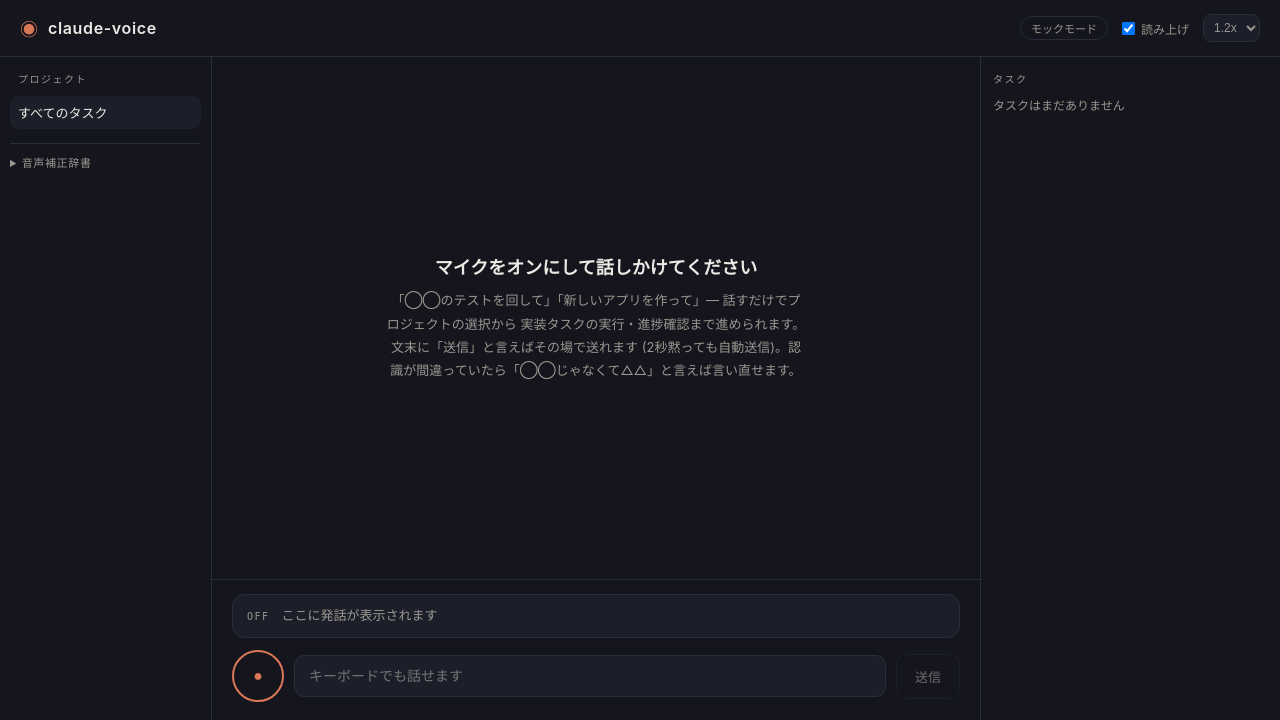
Test case: 編集可能な認識テキスト › 認識結果が編集可能な入力欄に表示され、キーボードで削除・追記できる
Click the button named "マイクを開始". click: click(258, 676)
box: [232,650,284,702]
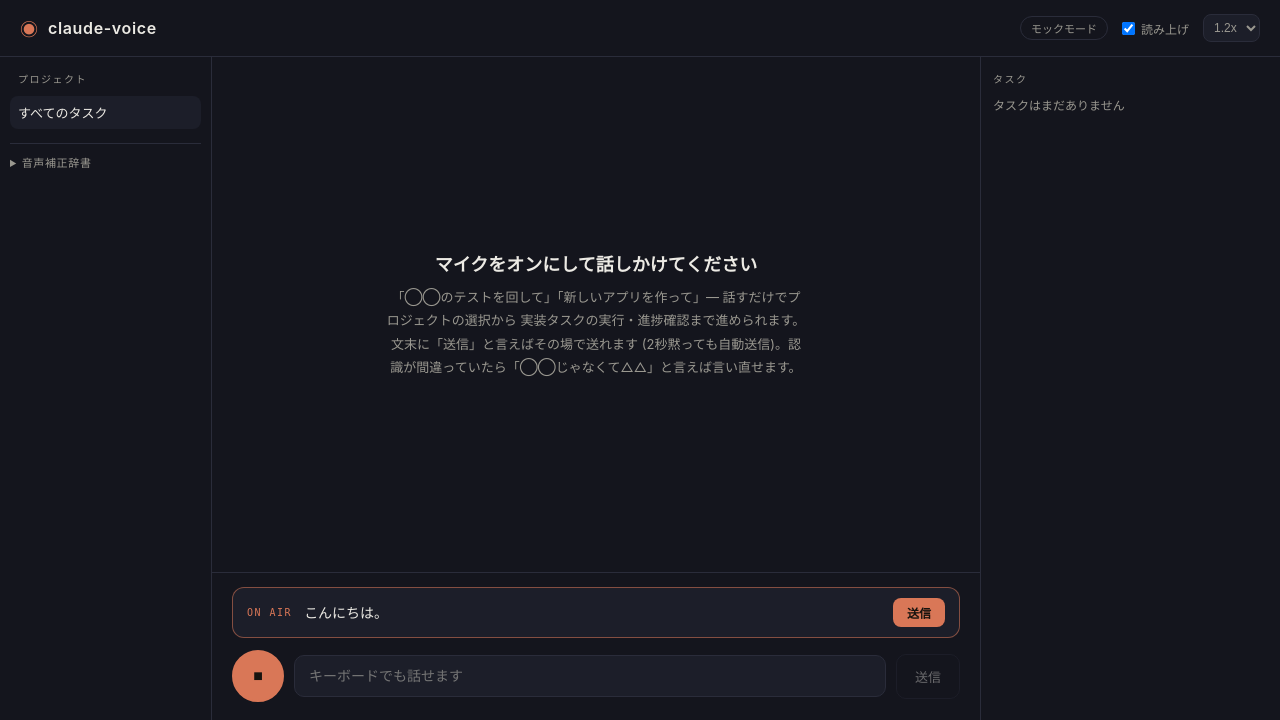
Result: the text box named "認識テキスト(編集できます)" holds "こんにちは。" at [304,602,881,623]
Press Backspace
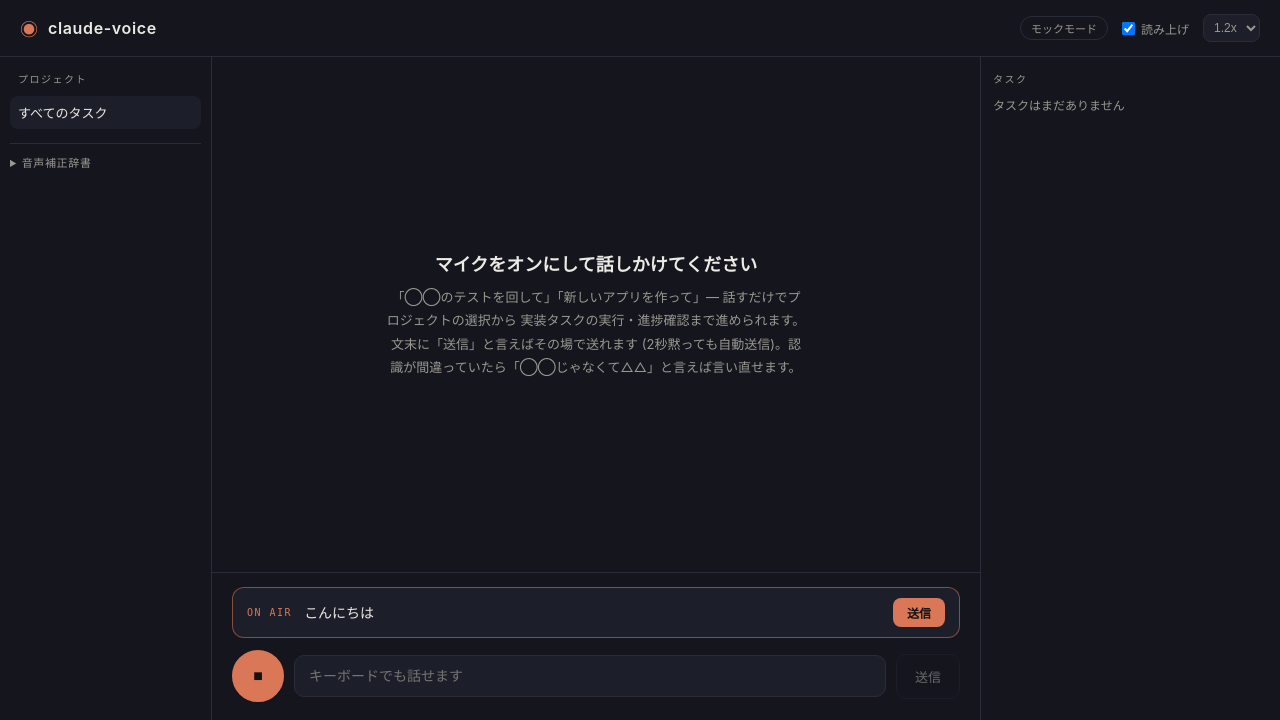
Result: the text box named "認識テキスト(編集できます)" holds "こんにちは" at [304,602,881,623]
Type keys "です"
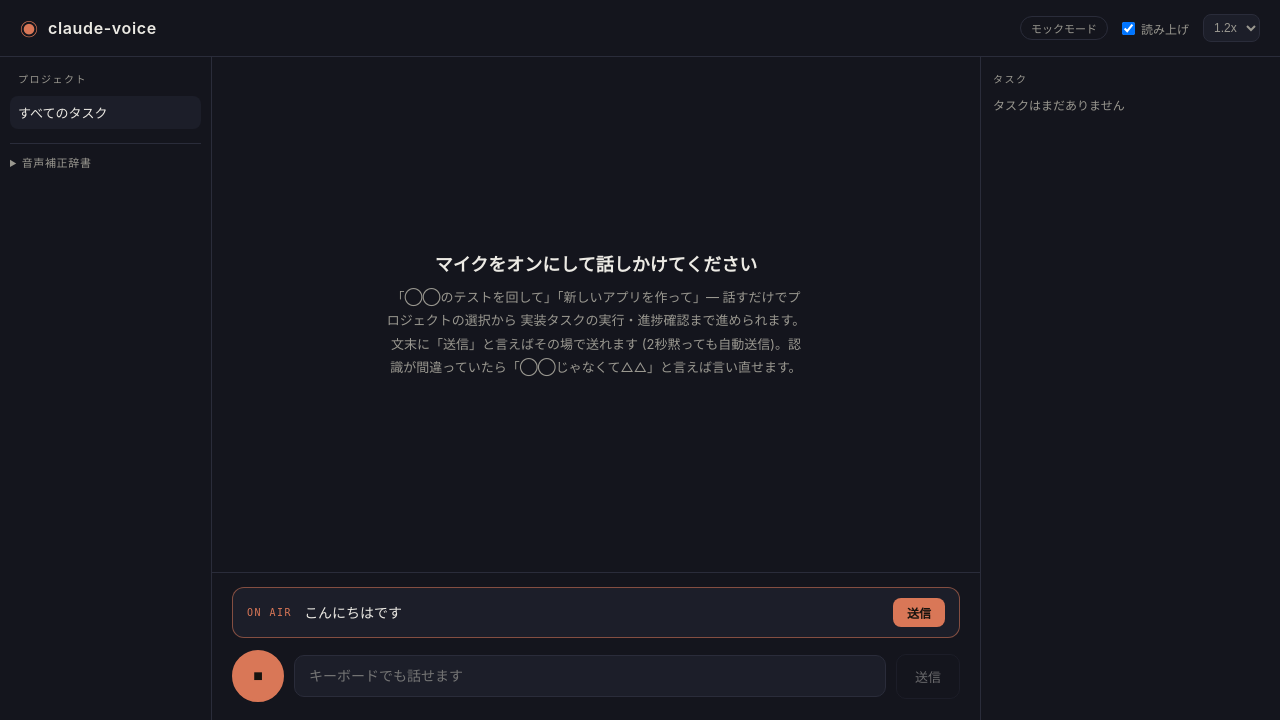
Result: the text box named "認識テキスト(編集できます)" holds "こんにちはです" at [304,602,881,623]
